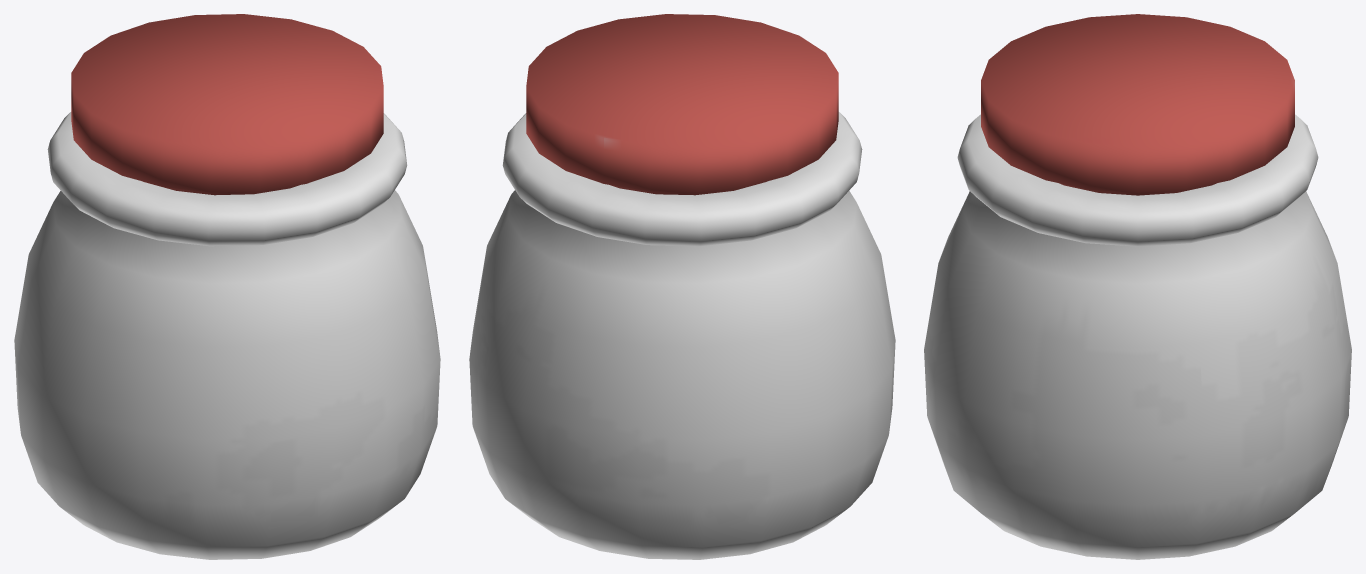
Rendered from pi_glasspot01_mayonnaise.gltf.
3 renders of one model, left to right at view 1: azimuth 30°, elevation 25°; view 2: azimuth 150°, elevation 25°; view 3: azimuth 270°, elevation 25°, orthographic.
Parts seen in each view (by area): view 1: pi_glasspot01_outside01_mesh_shape:pi_glasspot01_glass, pi_glasspot01_lid01_mesh_shape:pi_glasspot01_body; view 2: pi_glasspot01_outside01_mesh_shape:pi_glasspot01_glass, pi_glasspot01_lid01_mesh_shape:pi_glasspot01_body; view 3: pi_glasspot01_outside01_mesh_shape:pi_glasspot01_glass, pi_glasspot01_lid01_mesh_shape:pi_glasspot01_body.
Boxes of the visible parts, x1,y1,x2,y2 form: pi_glasspot01_outside01_mesh_shape:pi_glasspot01_glass: (14, 112, 440, 559); pi_glasspot01_lid01_mesh_shape:pi_glasspot01_body: (71, 14, 383, 195); pi_glasspot01_outside01_mesh_shape:pi_glasspot01_glass: (469, 112, 895, 559); pi_glasspot01_lid01_mesh_shape:pi_glasspot01_body: (526, 14, 838, 195); pi_glasspot01_outside01_mesh_shape:pi_glasspot01_glass: (924, 114, 1351, 559); pi_glasspot01_lid01_mesh_shape:pi_glasspot01_body: (981, 14, 1294, 195).
Bounding box in the file's own units: 0.0943 × 0.0997 × 0.0943.
Materials: 3 (3 with a texture image).
